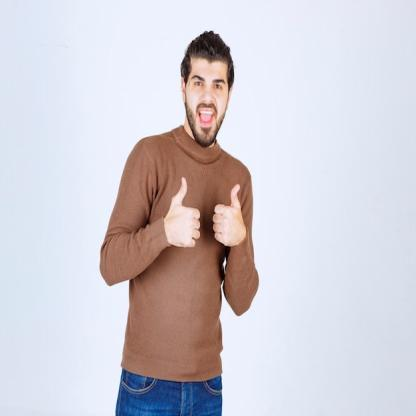thumb_up: (162, 172, 202, 251), (212, 182, 245, 252)
